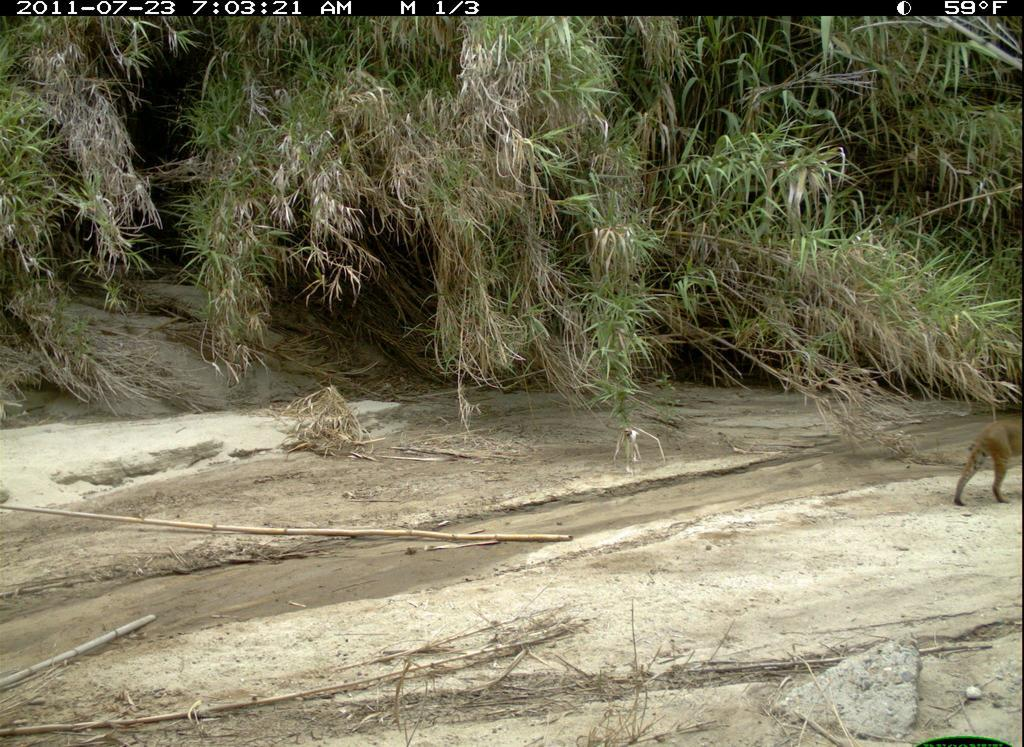bobcat: (952, 415, 1023, 513)
